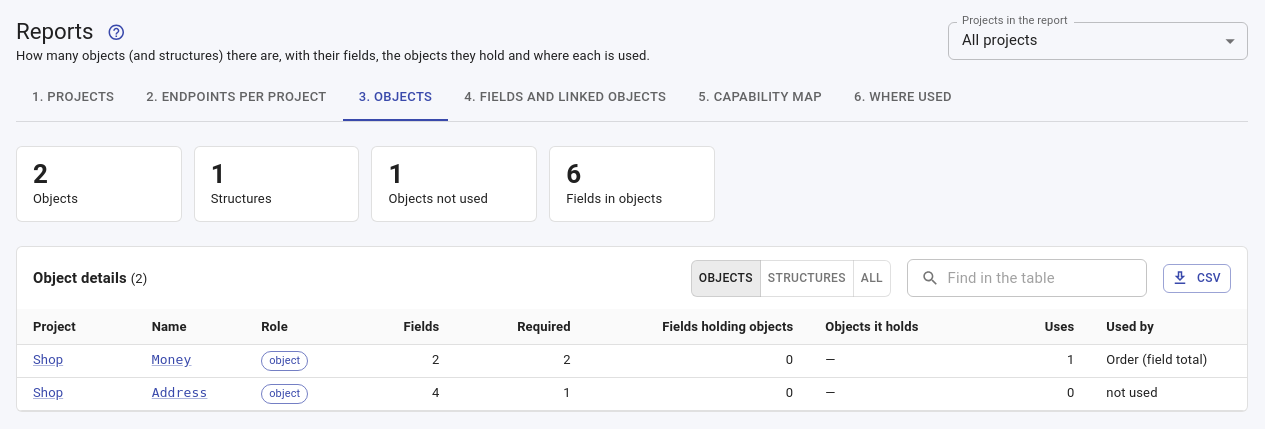
Reports › 3. shows objects by default, structures on request, and what uses each
Expected: the list item with aria-label "Objects not used: 1" is shown, [371,146,537,222]
Expected: the text "not used" is shown, [1106,385,1158,400]
Click the button "Structures" at (807, 278), box [760,260,854,297]
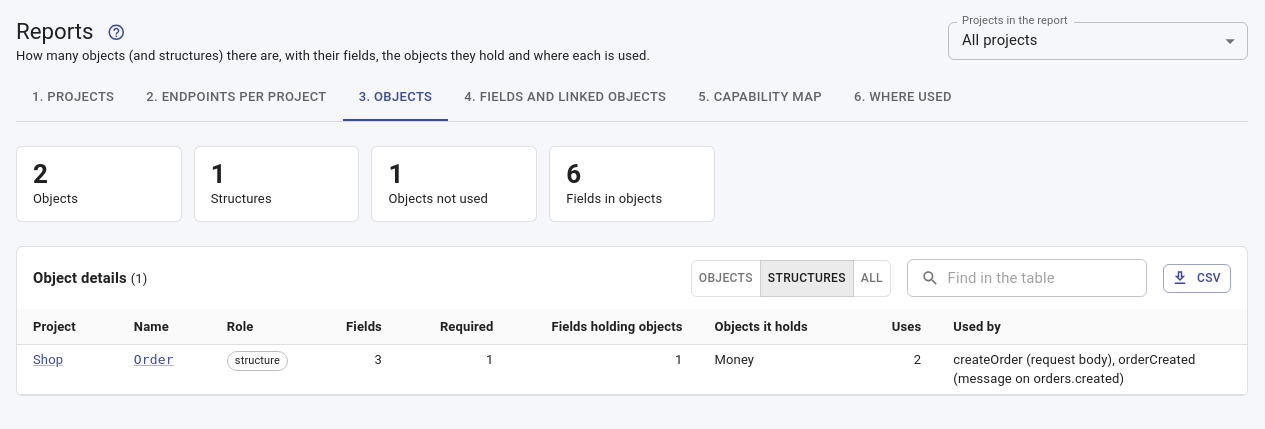
Result: the text "createOrder (request body)" is shown at [953,352,1195,386]
